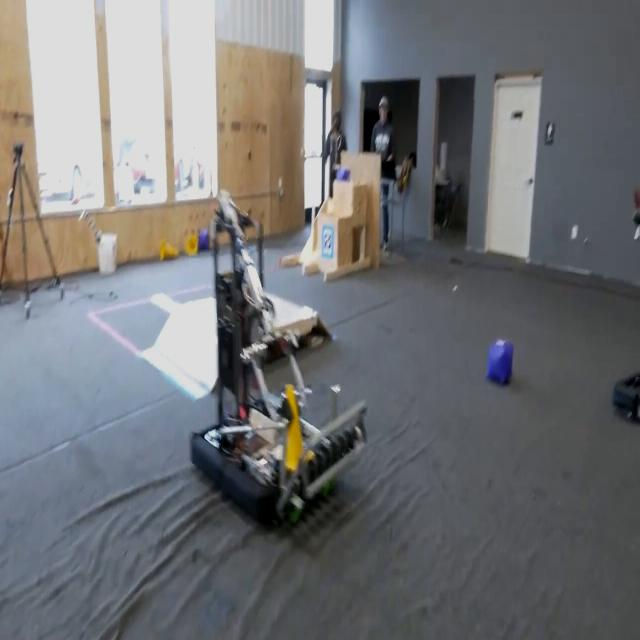frc_cone: (282, 382, 306, 476), (158, 243, 179, 259), (185, 232, 196, 259)
frc_cube: (490, 336, 513, 386), (334, 166, 352, 186), (200, 228, 212, 251)
